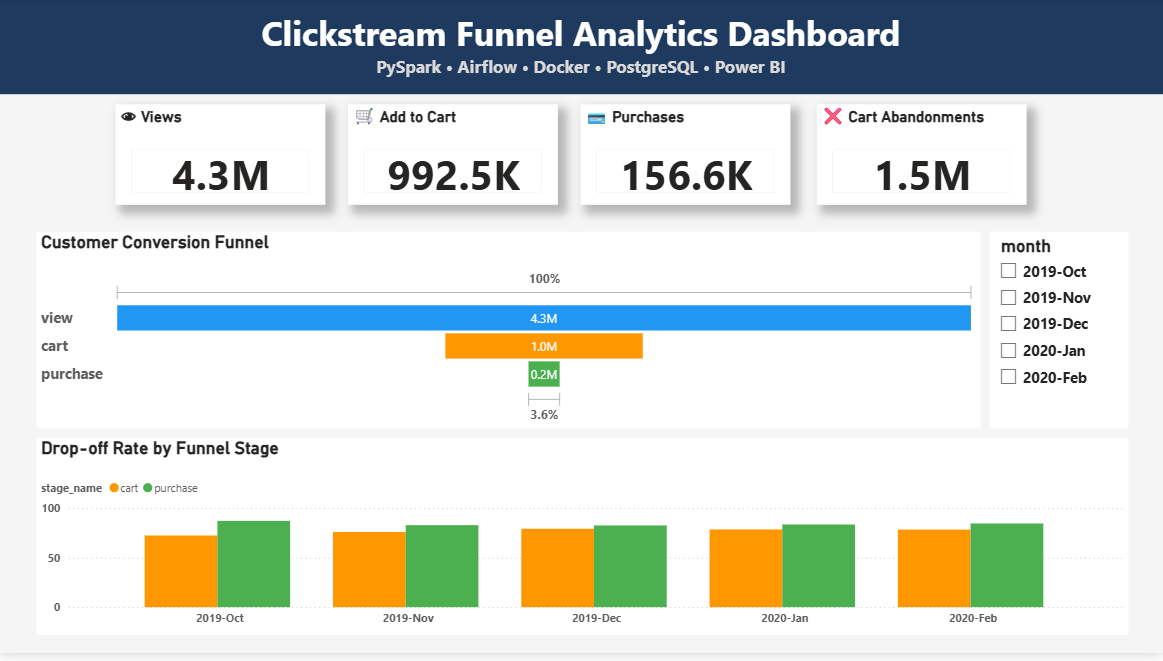

The page's visual inventory and layout, read from the dashboard file:
{"tool":"powerbi","page":{"name":"Clickstream Funnel Analytics Dashboard","canvas":[1280,720],"ordinal":0},"visuals":[{"type":"shape","box":[0,0,1280,105.7],"z":0},{"type":"textbox","box":[281.4,8.6,717.1,88.6],"z":1},{"type":"cardVisual","title":"👁 Views","fields":{"Data":["public funnel_summary.Total View Sessions"]},"box":[128.6,117.1,230,110],"z":2},{"type":"cardVisual","title":"🛒 Add to Cart","fields":{"Data":["public funnel_summary.Total Cart Sessions"]},"box":[384.3,117.1,230,110],"z":3},{"type":"cardVisual","title":"💳 Purchases","fields":{"Data":["public funnel_summary.Total Purchase Sessions"]},"box":[640,117.1,230,110],"z":4},{"type":"cardVisual","title":"❌ Cart Abandonments","fields":{"Data":["Sum(public funnel_summary.cart_removal_sessions)"]},"box":[898.6,117.1,230,110],"z":5},{"type":"funnel","title":"Customer Conversion Funnel","fields":{"Y":["Sum(public funnel_summary.unique_sessions)"],"Category":["public funnel_summary.stage_name"]},"box":[42.9,257.1,1035.7,215.7],"z":6},{"type":"slicer","fields":{"Values":["public funnel_summary.month"]},"box":[1088.6,257.1,152.9,215.7],"z":7},{"type":"clusteredColumnChart","title":"Drop-off Rate by Funnel Stage","fields":{"Category":["public funnel_summary.month"],"Y":["Avg(public funnel_summary.drop_off_rate)"],"Series":["public funnel_summary.stage_name"]},"box":[42.9,482.9,1198.6,215.7],"z":8}]}

Visuals, with their boxes in screenshot pixels (x1, y1, x2, y2), scaled from the page's 1280x720 canvas onto the 1163x661 screenshot:
shape: [0,0,1162,97]
textbox: [256,8,907,89]
"👁 Views" cardVisual: [117,108,326,208]
"🛒 Add to Cart" cardVisual: [349,108,558,208]
"💳 Purchases" cardVisual: [582,108,790,208]
"❌ Cart Abandonments" cardVisual: [816,108,1025,208]
"Customer Conversion Funnel" funnel: [39,236,980,434]
slicer - public funnel_summary.month: [989,236,1128,434]
"Drop-off Rate by Funnel Stage" clusteredColumnChart: [39,443,1128,641]
